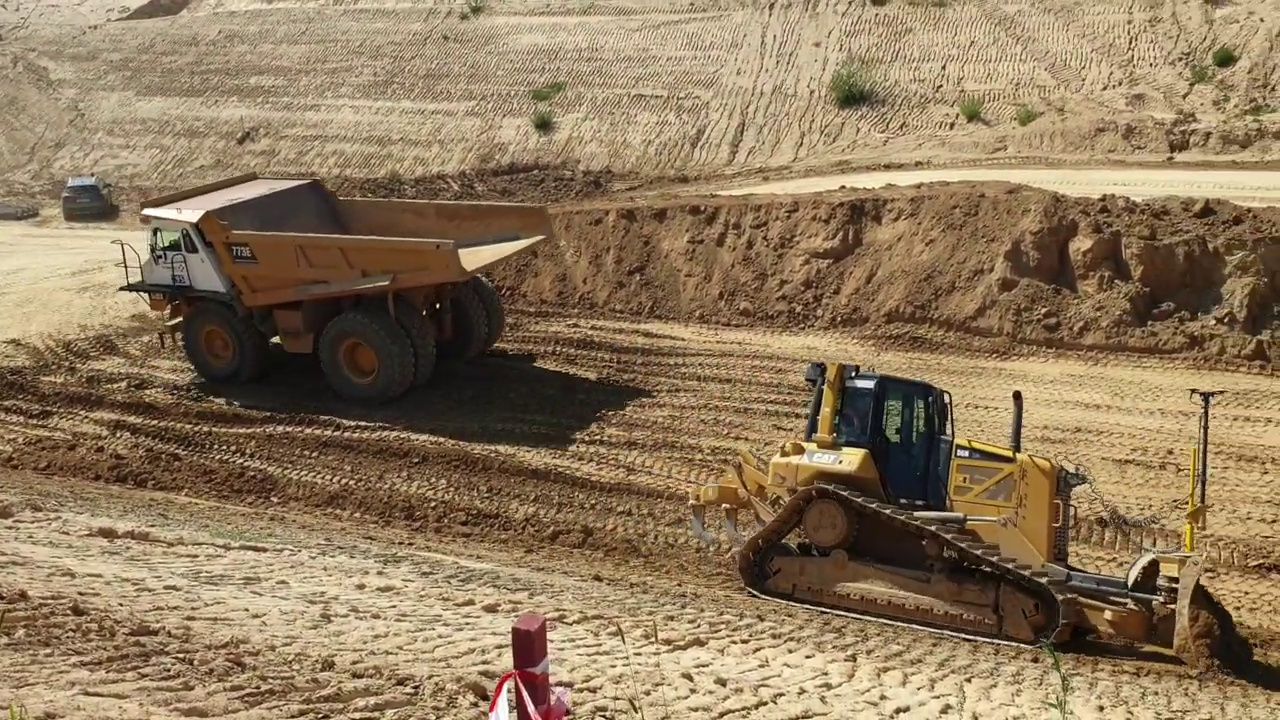bulldozer: (685, 355, 1247, 679)
truck: (111, 168, 554, 409)
